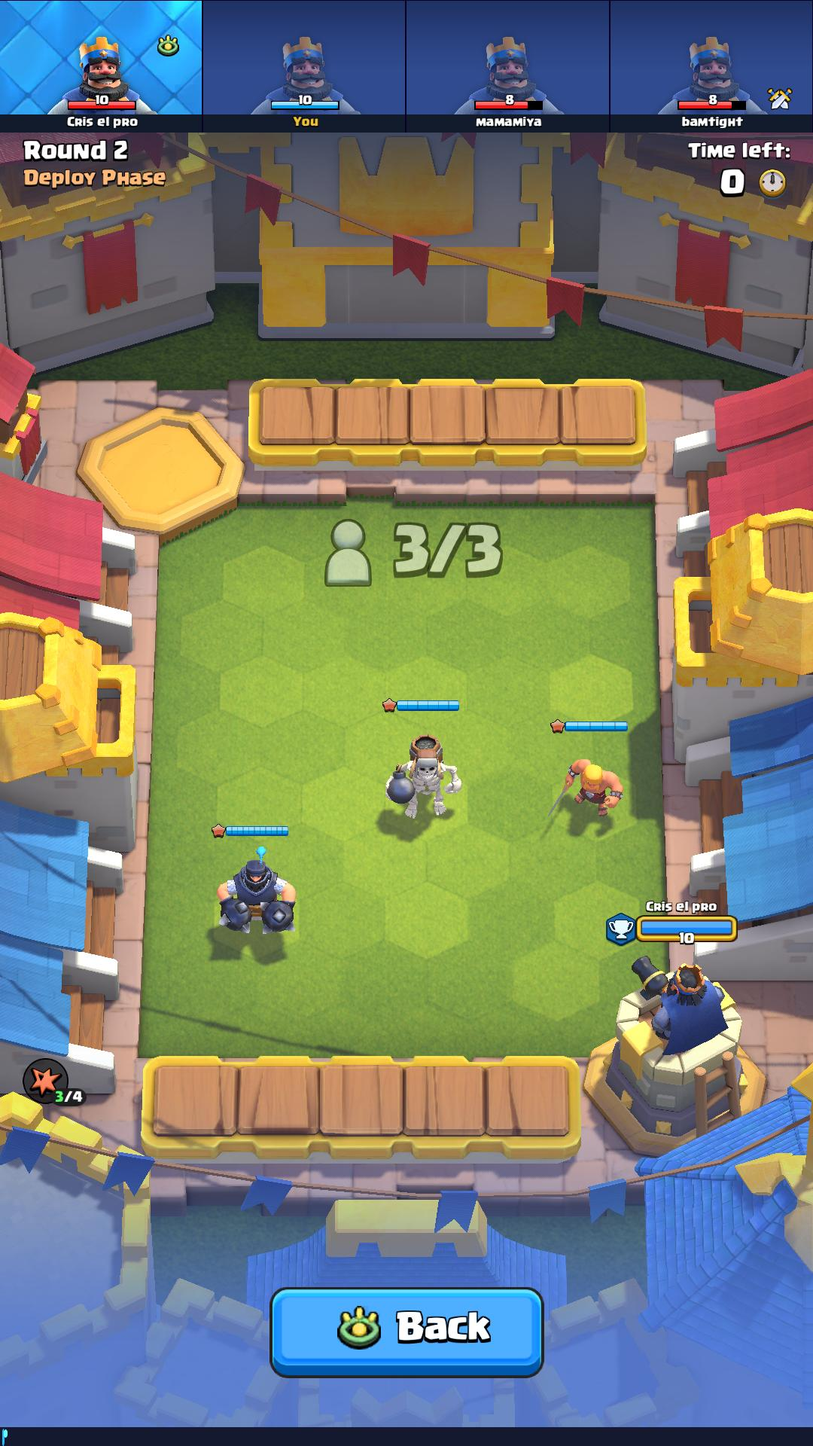bandit: (543, 752, 623, 823)
giant: (381, 719, 463, 824)
mega: (208, 842, 306, 941)
